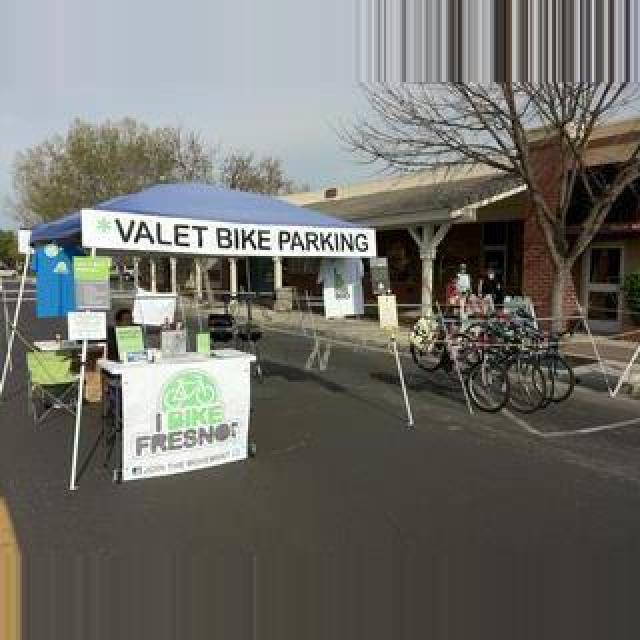Person: (462, 316, 578, 418), (408, 306, 512, 416)
